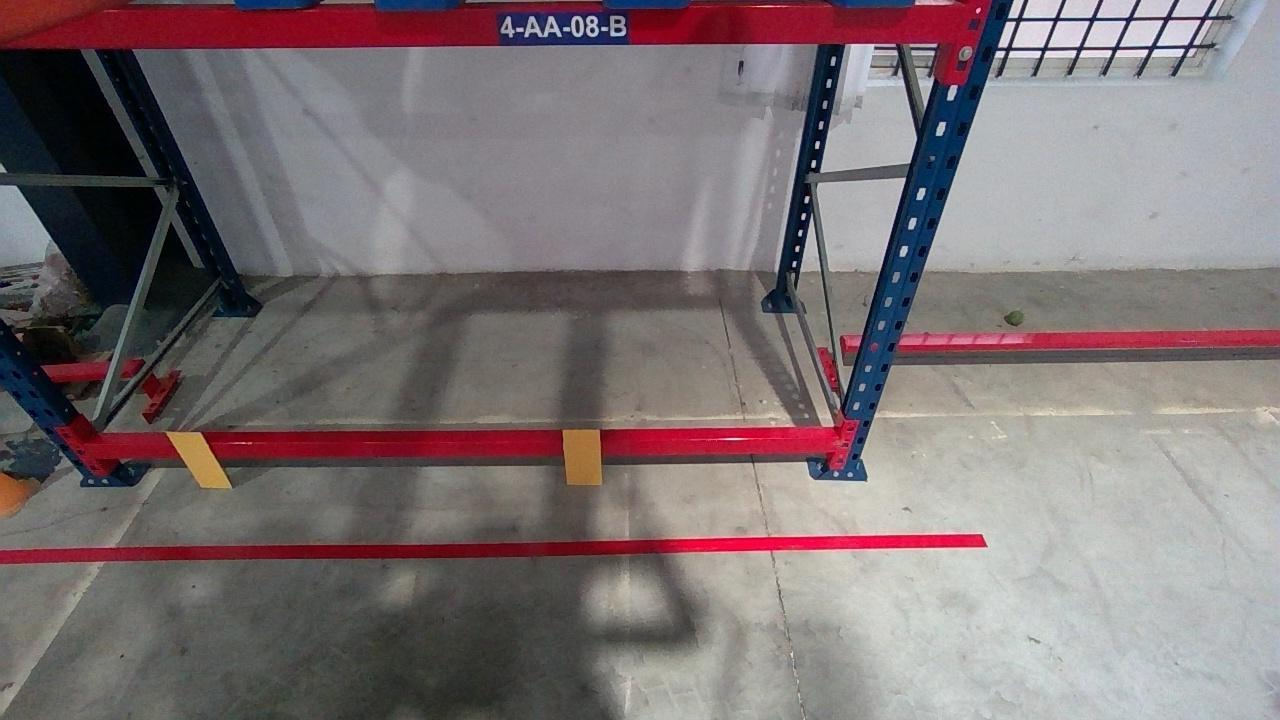h_rack: (2, 4, 963, 49), (84, 436, 840, 458)
orange_strip: (163, 432, 233, 487), (560, 428, 603, 484)
red_line: (2, 533, 987, 559)
